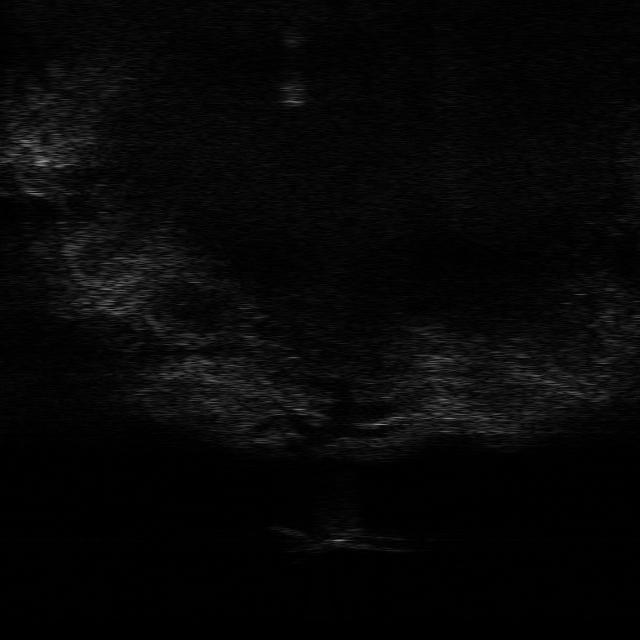plane: (270, 524, 409, 554)
